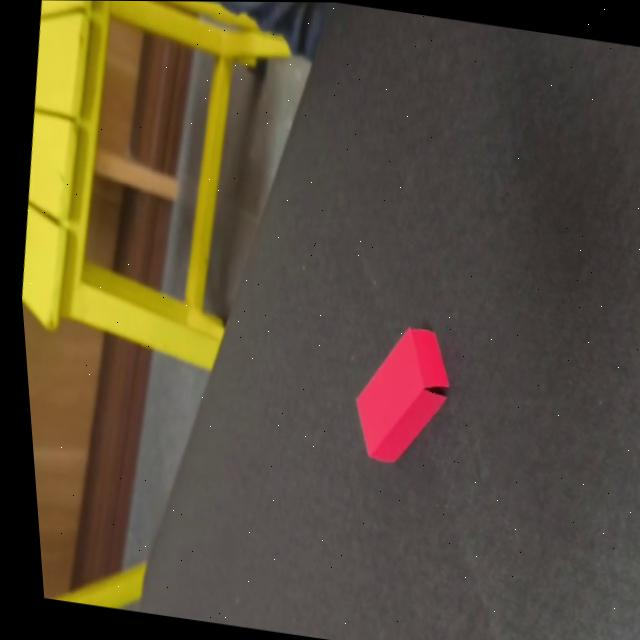red block: (340, 316, 464, 471)
